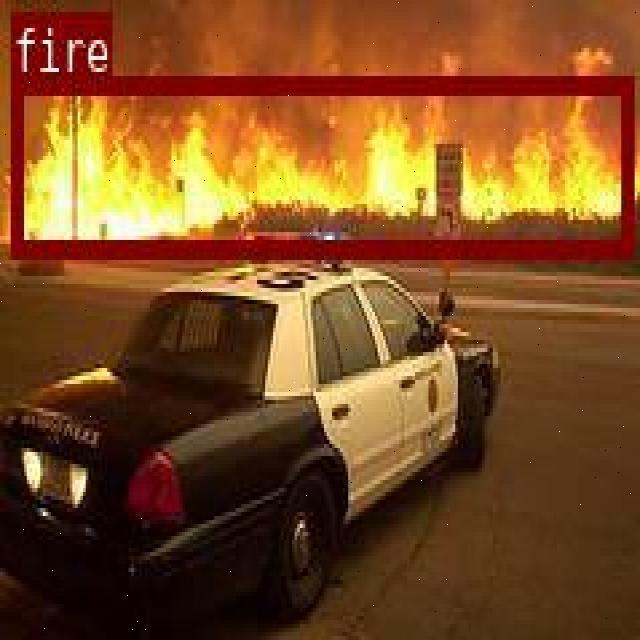fire: (11, 75, 631, 252)
